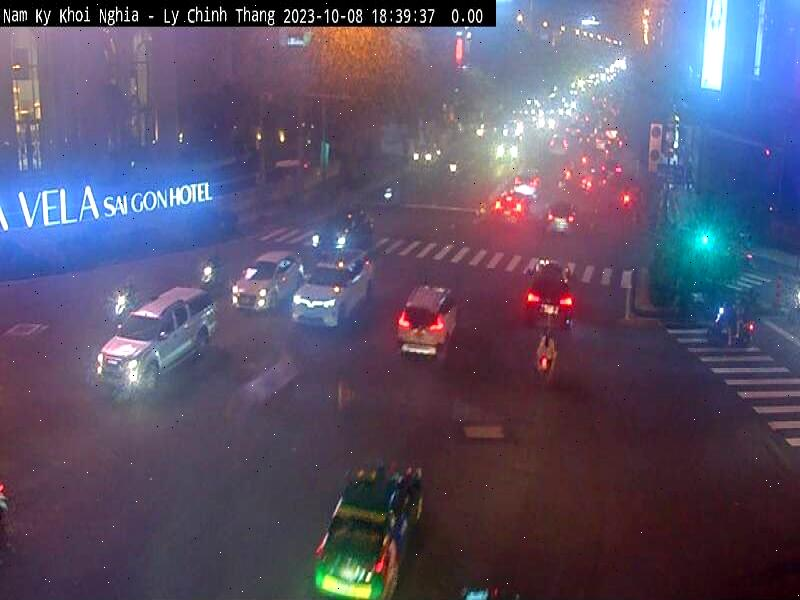car: (302, 455, 421, 597), (93, 280, 206, 392), (290, 251, 366, 333), (229, 238, 292, 318), (392, 278, 450, 360), (518, 250, 574, 332), (314, 208, 371, 269), (538, 190, 575, 245), (340, 204, 343, 205)
motorcycle: (515, 334, 571, 376)
